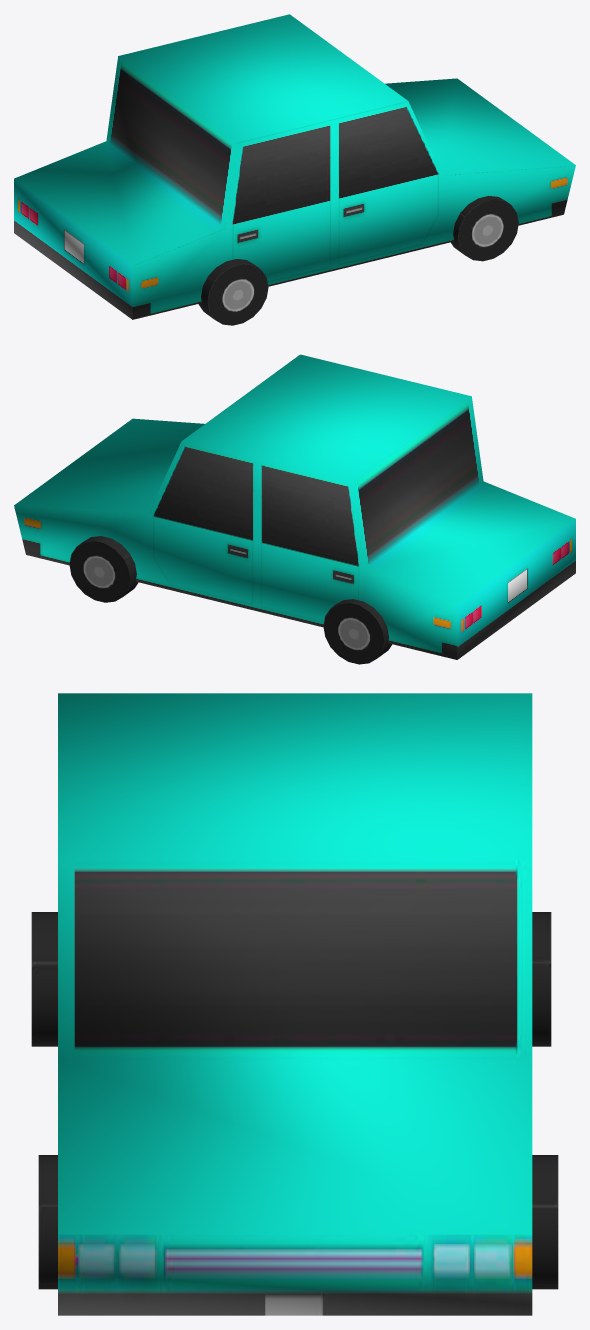
Rendered from Car_teal.fbx.
3 renders of one model, top to bottom at view 1: azimuth 30°, elevation 25°; view 2: azimuth 150°, elevation 25°; view 3: azimuth 270°, elevation 25°, orthographic. The views are drawn at different scales.
Parts seen in each view (by area): view 1: Car_05; view 2: Car_05; view 3: Car_05.
Boxes of the visible parts, x1,y1,x2,y2 form: Car_05: (14, 14, 575, 325); Car_05: (14, 354, 575, 664); Car_05: (31, 693, 558, 1315).
Size of the model in its own units: 76.54 by 28.93 by 39.39.
1 material, 1 textured.
